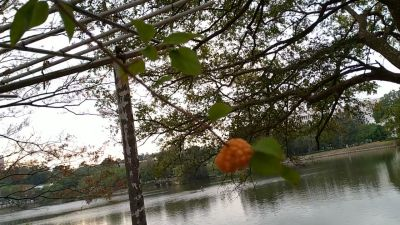eggs: (214, 136, 254, 174)
